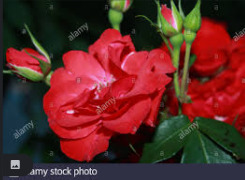RedRose: (38, 26, 174, 162)
